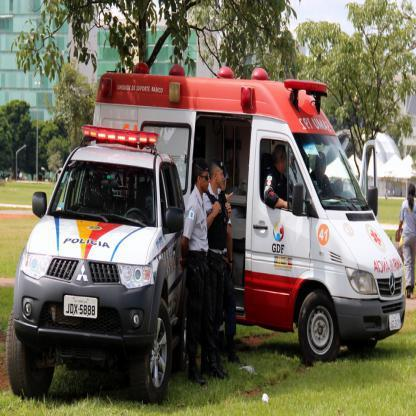ambulance_off: (93, 63, 407, 362)
